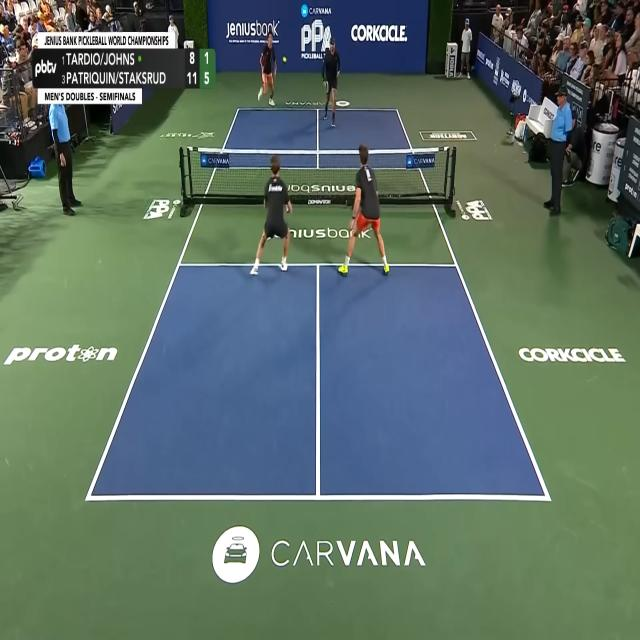ball: (282, 56, 288, 64)
